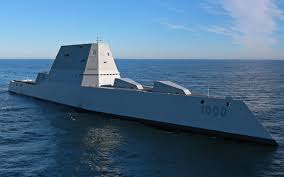tau_muctieu: (14, 36, 280, 148)
